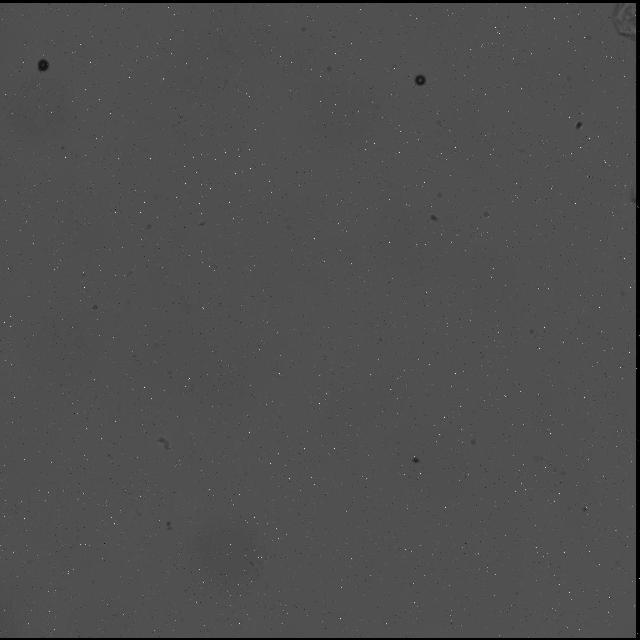microbeads: (414, 72, 426, 86), (36, 59, 49, 71)
